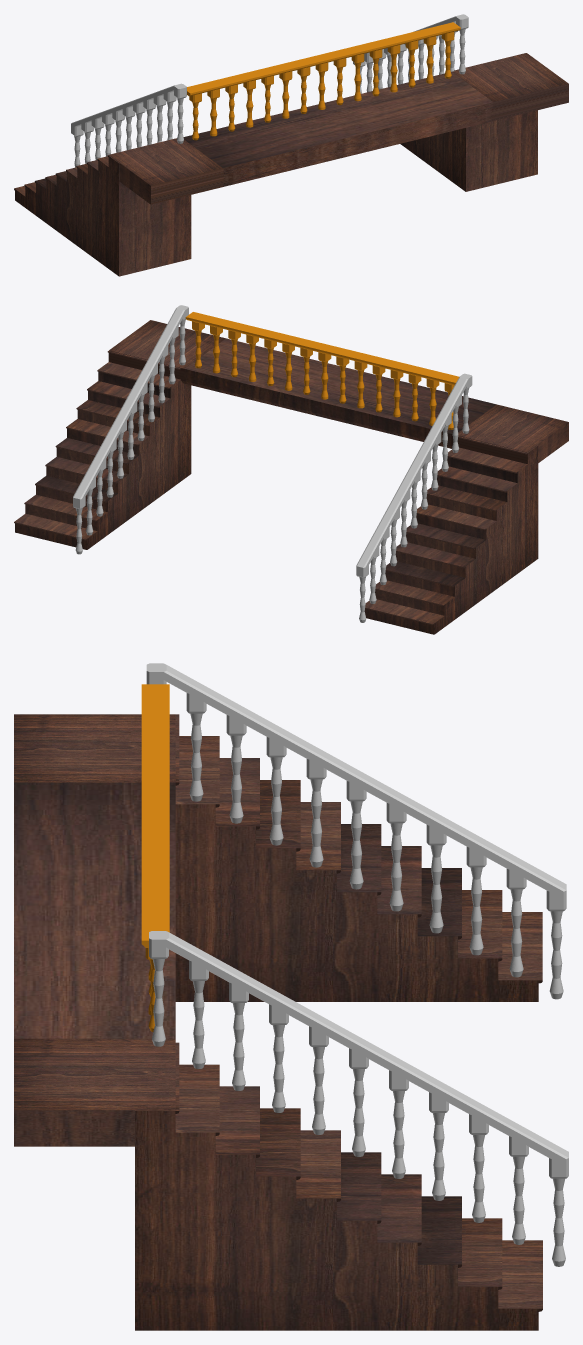
Rendered from AssemblageMezzanineV2_KOT.fbx.
3 views of the same model, one above another, from view 1: azimuth 30°, elevation 25°; view 2: azimuth 150°, elevation 25°; view 3: azimuth 270°, elevation 25° (orthographic). The views are drawn at different scales.
Visible parts, largest first — view 1: Mezzanine, Cube.004, Cube.003, Bar_Type1.003, Cube.002, Bar_Type1.001, Bar_Type2.001, Bar_Type1.002; view 2: Cube.004, Mezzanine, Cube.003, Bar_Type1.003, Bar_Type1.002, Cube.002, Bar_Type1.001, Bar_Type2.001; view 3: Cube.003, Mezzanine, Cube.004, Bar_Type1.002, Bar_Type1.003, Cube.002.
Boxes of the visible parts, bbox=[...] form: Mezzanine: bbox=[109, 53, 568, 204]; Cube.004: bbox=[14, 138, 191, 276]; Cube.003: bbox=[400, 53, 537, 191]; Bar_Type1.003: bbox=[71, 83, 186, 167]; Cube.002: bbox=[187, 22, 460, 96]; Bar_Type1.001: bbox=[189, 32, 454, 140]; Bar_Type2.001: bbox=[207, 36, 436, 136]; Bar_Type1.002: bbox=[353, 14, 468, 93]; Cube.004: bbox=[364, 436, 538, 634]; Mezzanine: bbox=[109, 320, 568, 463]; Cube.003: bbox=[14, 351, 191, 549]; Bar_Type1.003: bbox=[356, 373, 472, 622]; Bar_Type1.002: bbox=[73, 305, 188, 554]; Cube.002: bbox=[185, 312, 458, 385]; Bar_Type1.001: bbox=[192, 321, 454, 429]; Bar_Type2.001: bbox=[210, 325, 439, 425]; Cube.003: bbox=[135, 1042, 542, 1330]; Mezzanine: bbox=[14, 714, 175, 1146]; Cube.004: bbox=[175, 714, 542, 1001]; Bar_Type1.002: bbox=[149, 931, 568, 1266]; Bar_Type1.003: bbox=[146, 663, 566, 999]; Cube.002: bbox=[141, 684, 169, 947].
Bounding box in the file's own units: 2323 × 900 × 1374.
